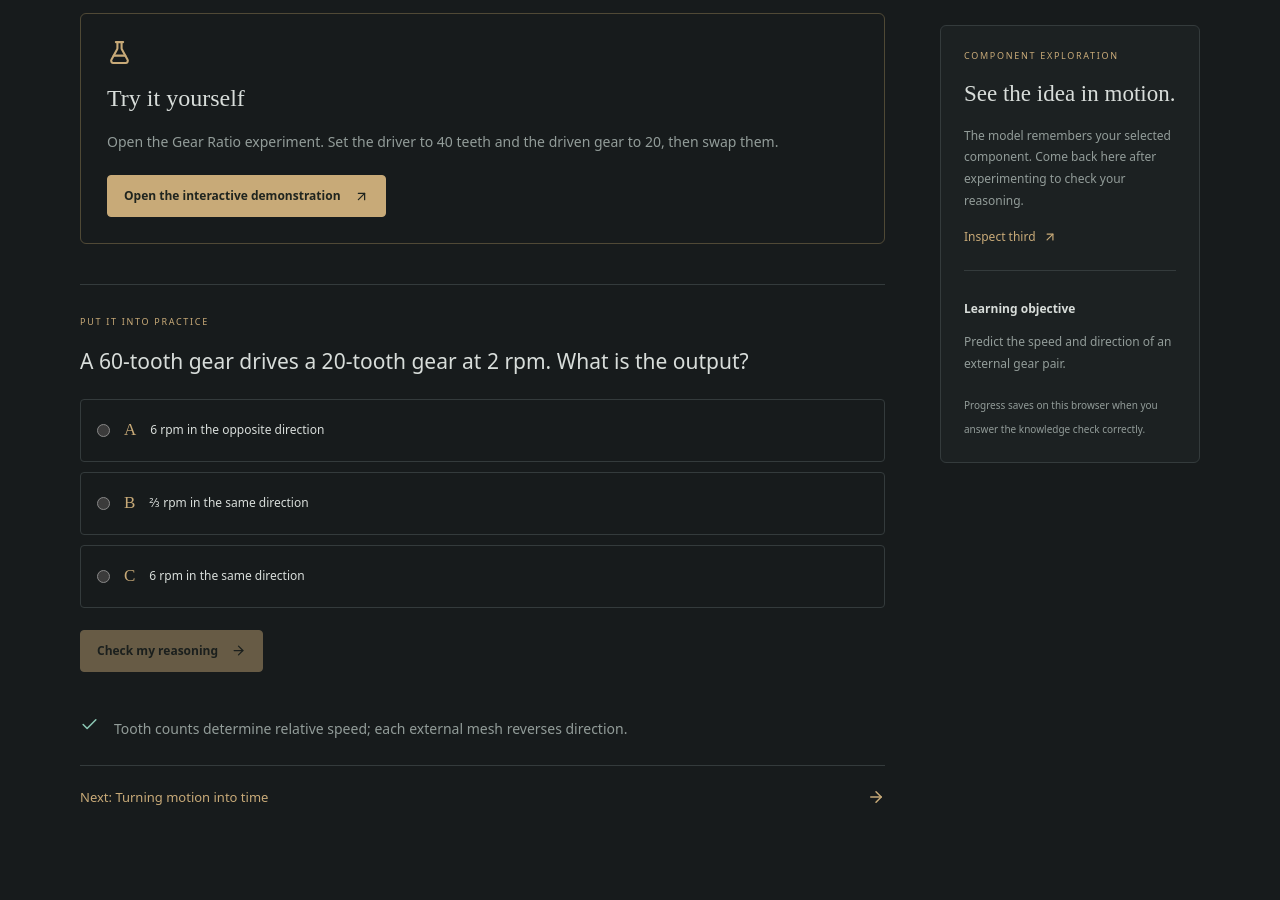
Test: provides feedback for reasoning and persists only a correct answer
This screenshot has width=1280, height=900.
(page scrolled)
Click the radio button labelled "B ⅔ rpm in the same direction": click(104, 503) [97,497,110,510]
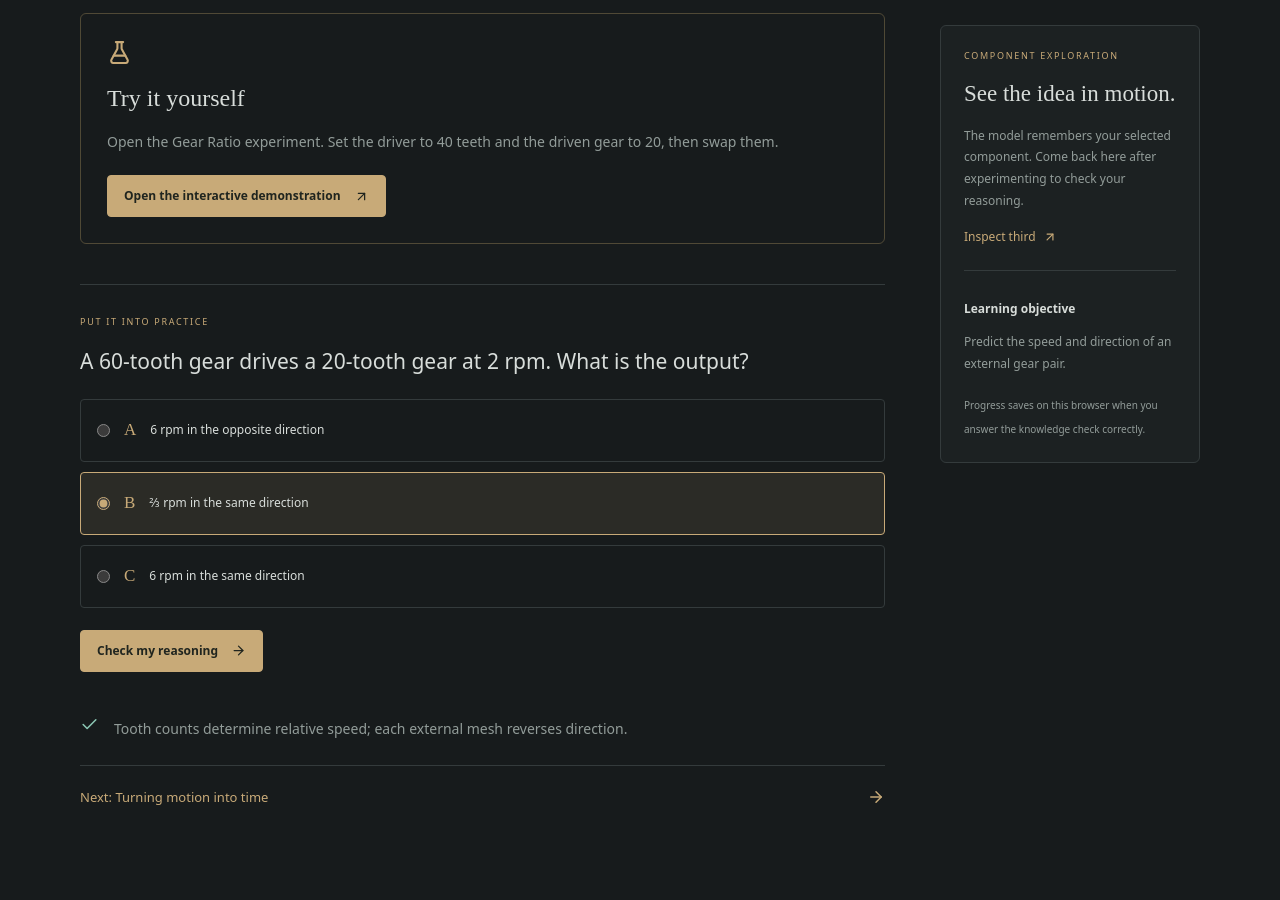
Click the button "Check my reasoning": click(172, 651) [80,630,263,672]
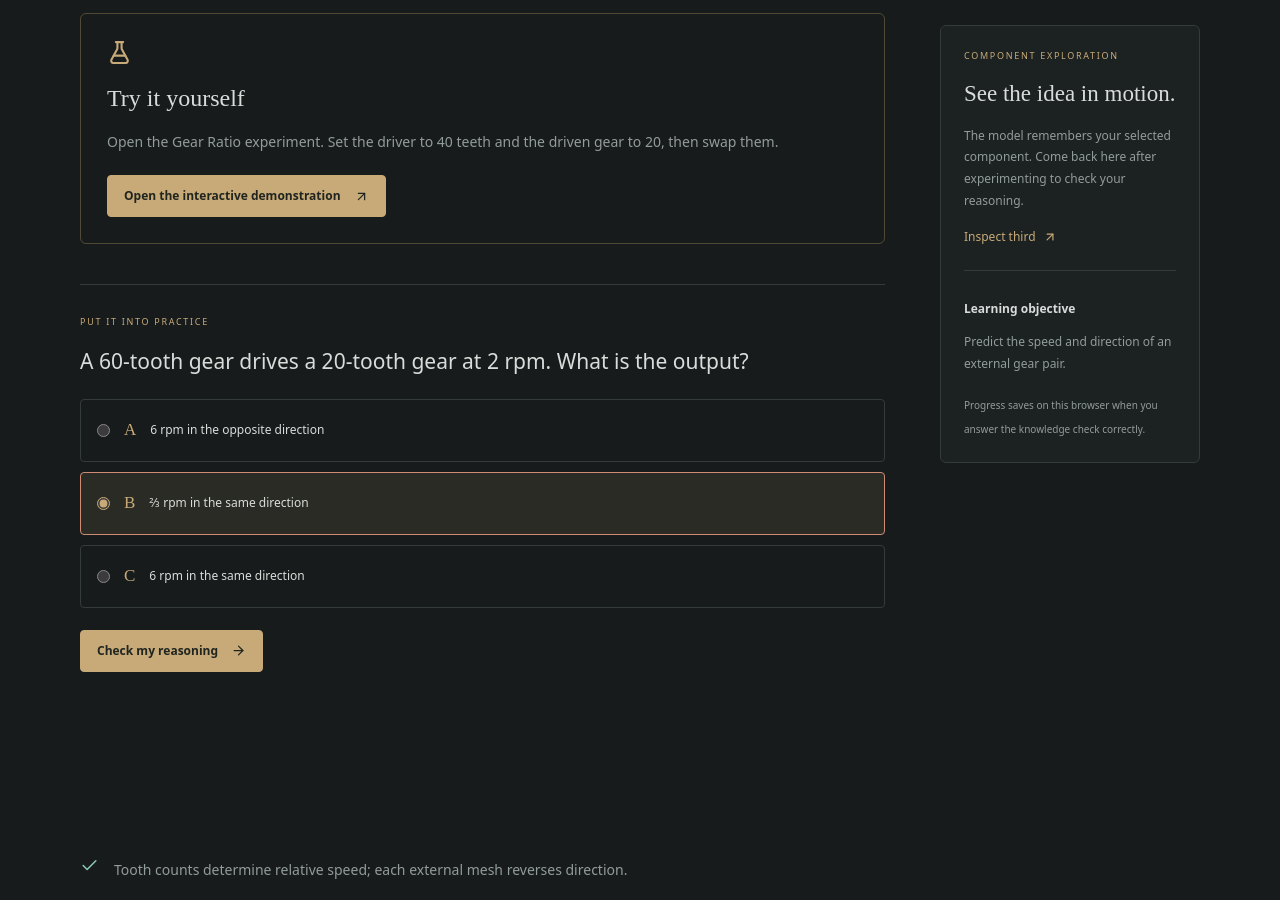
Click the radio button labelled "A 6 rpm in the opposite direction": click(104, 430) [97,424,110,437]
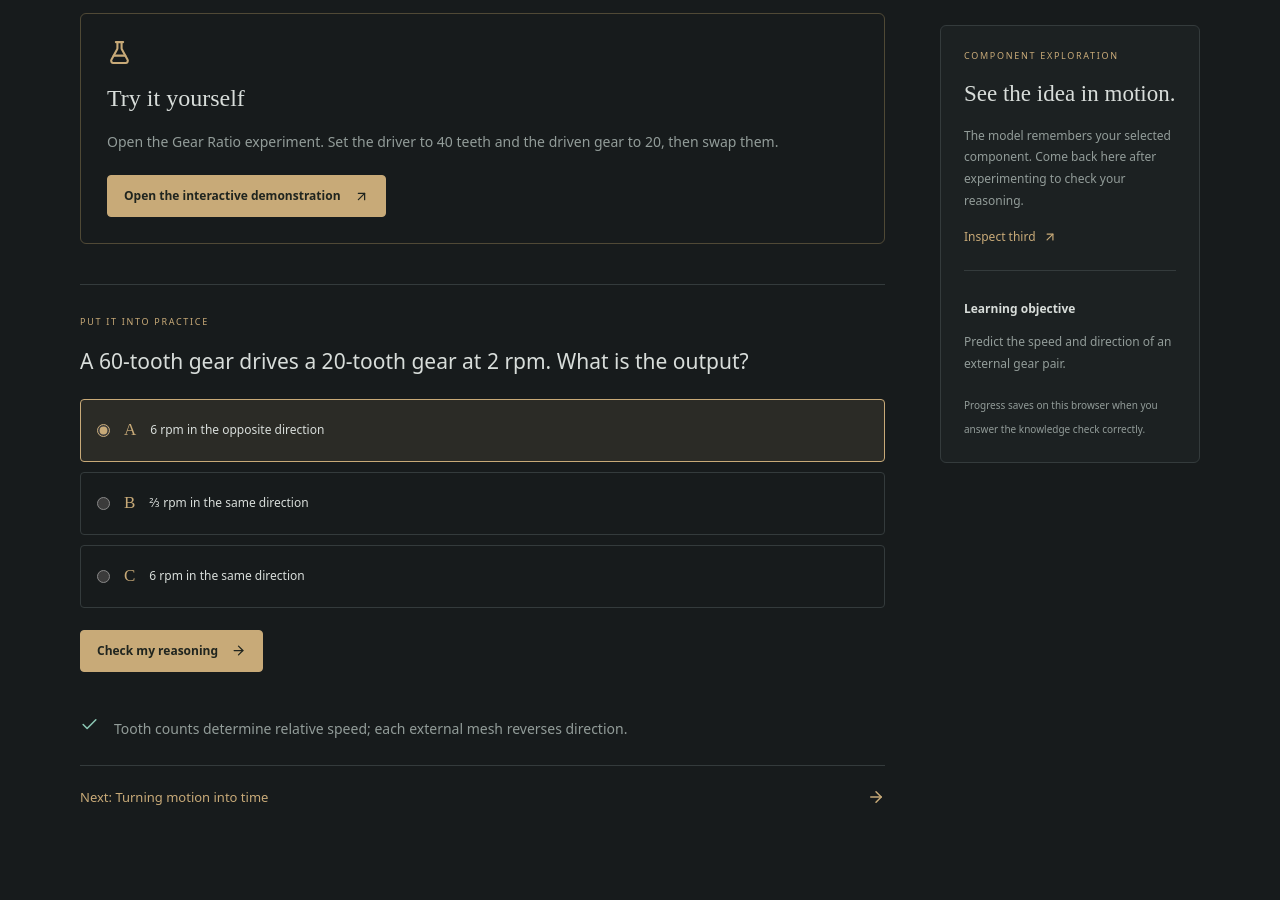
Click the button "Check my reasoning": click(172, 651) [80,630,263,672]
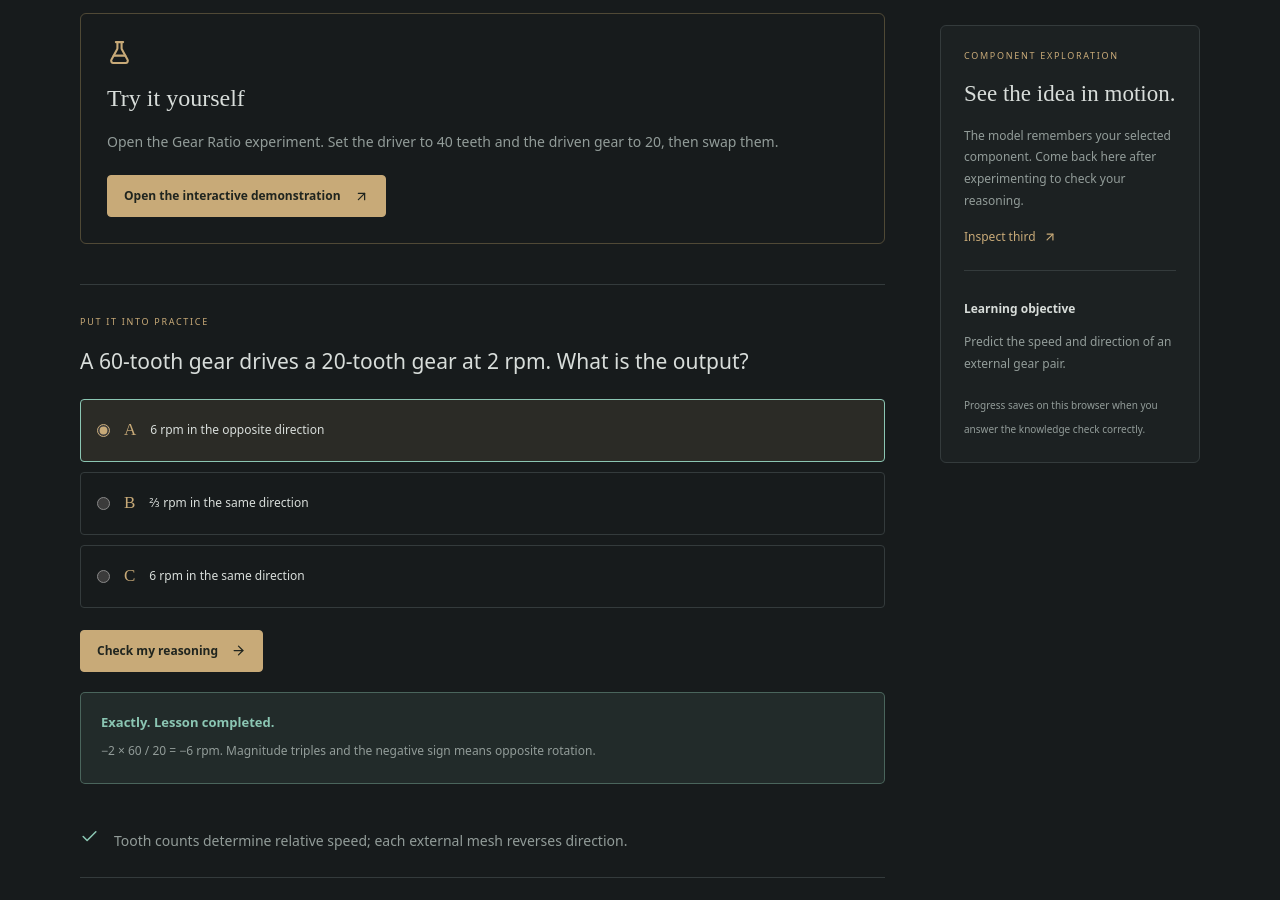
Expected: the message shows "Lesson completed", [101,713,274,731]
